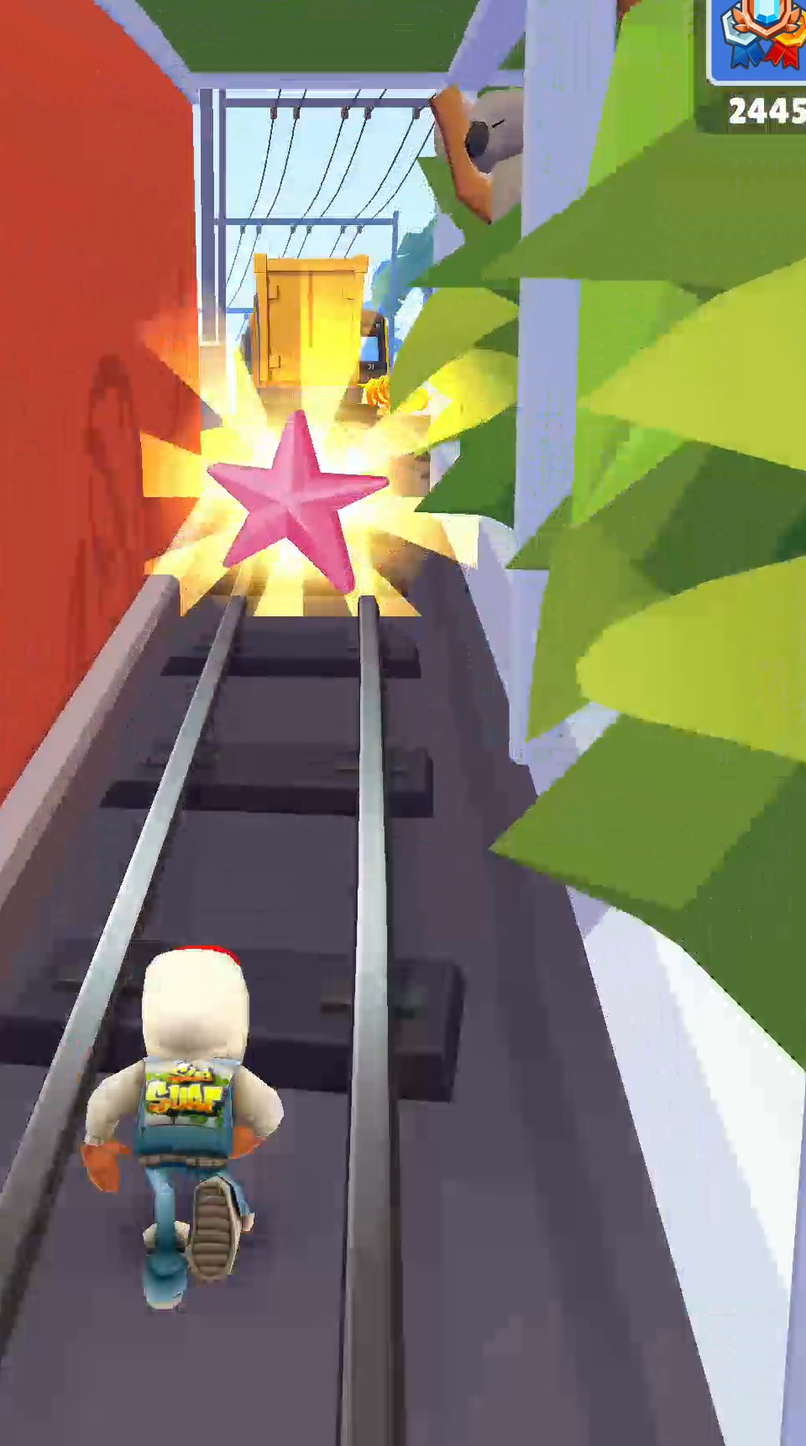block pillar: (394, 0, 805, 1445)
train: (244, 254, 367, 395), (358, 308, 388, 386)
